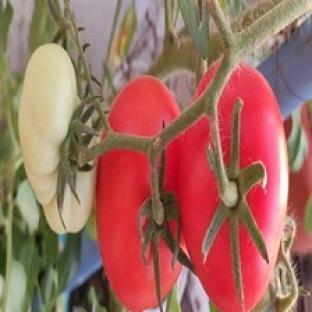Tomato: (179, 63, 288, 311), (19, 44, 94, 232), (97, 150, 157, 311), (289, 105, 311, 254)
